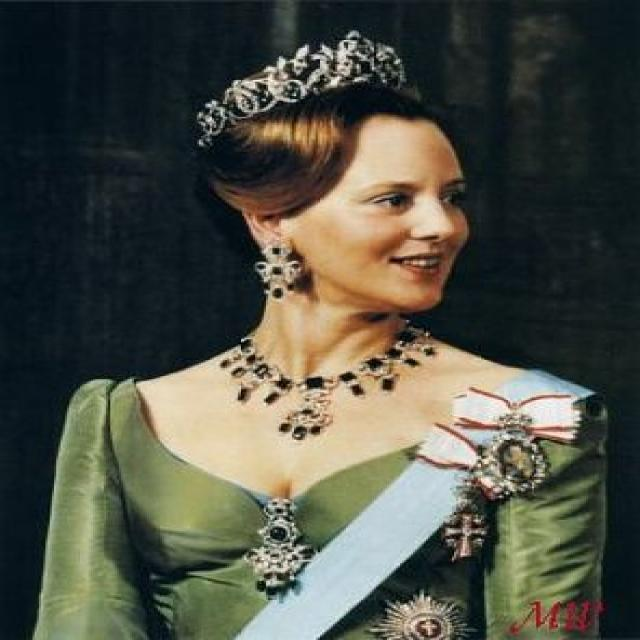Earring: (247, 224, 310, 302)
